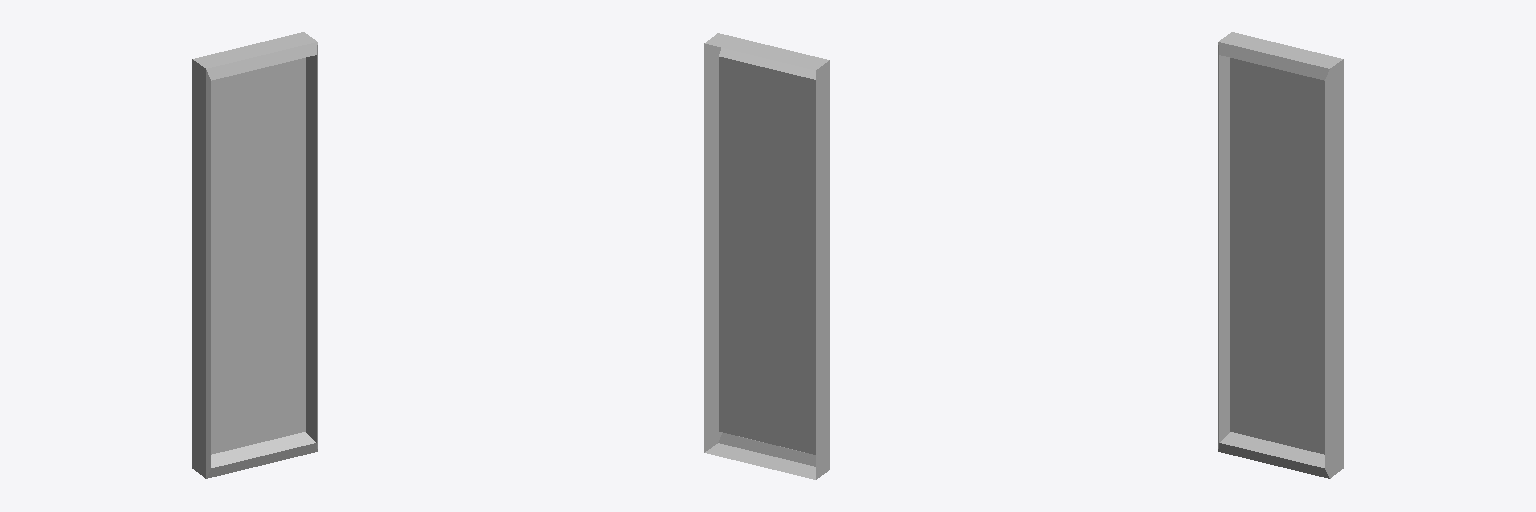
Rendered from M_window_01.obj.
3 renders of one model, left to right at view 1: azimuth 30°, elevation 25°; view 2: azimuth 150°, elevation 25°; view 3: azimuth 330°, elevation 25°, orthographic.
Parts seen in each view (by area): view 1: polySurface1 pCube1, pCube1 polySurface2; view 2: polySurface1 pCube1, pCube1 polySurface2; view 3: polySurface1 pCube1, pCube1 polySurface2.
Part boxes in pixels (left/top/right/bottom): polySurface1 pCube1: left=211, top=58, right=305, bottom=454; pCube1 polySurface2: left=192, top=32, right=317, bottom=478; polySurface1 pCube1: left=719, top=57, right=815, bottom=454; pCube1 polySurface2: left=704, top=33, right=829, bottom=479; polySurface1 pCube1: left=1230, top=58, right=1324, bottom=454; pCube1 polySurface2: left=1218, top=32, right=1343, bottom=478.
Bounding box in the file's own units: 2.91 × 10.22 × 0.7121.